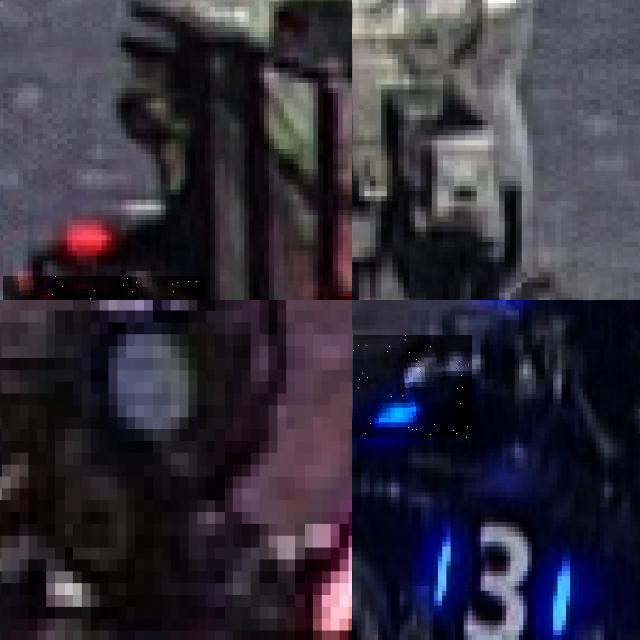B3: (425, 507, 574, 640), (353, 335, 472, 438)
